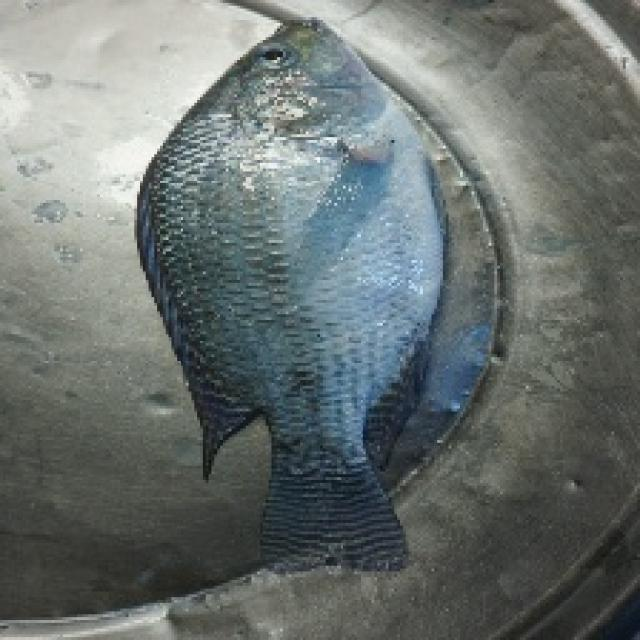Fresh: (155, 10, 462, 462), (251, 30, 304, 75)
